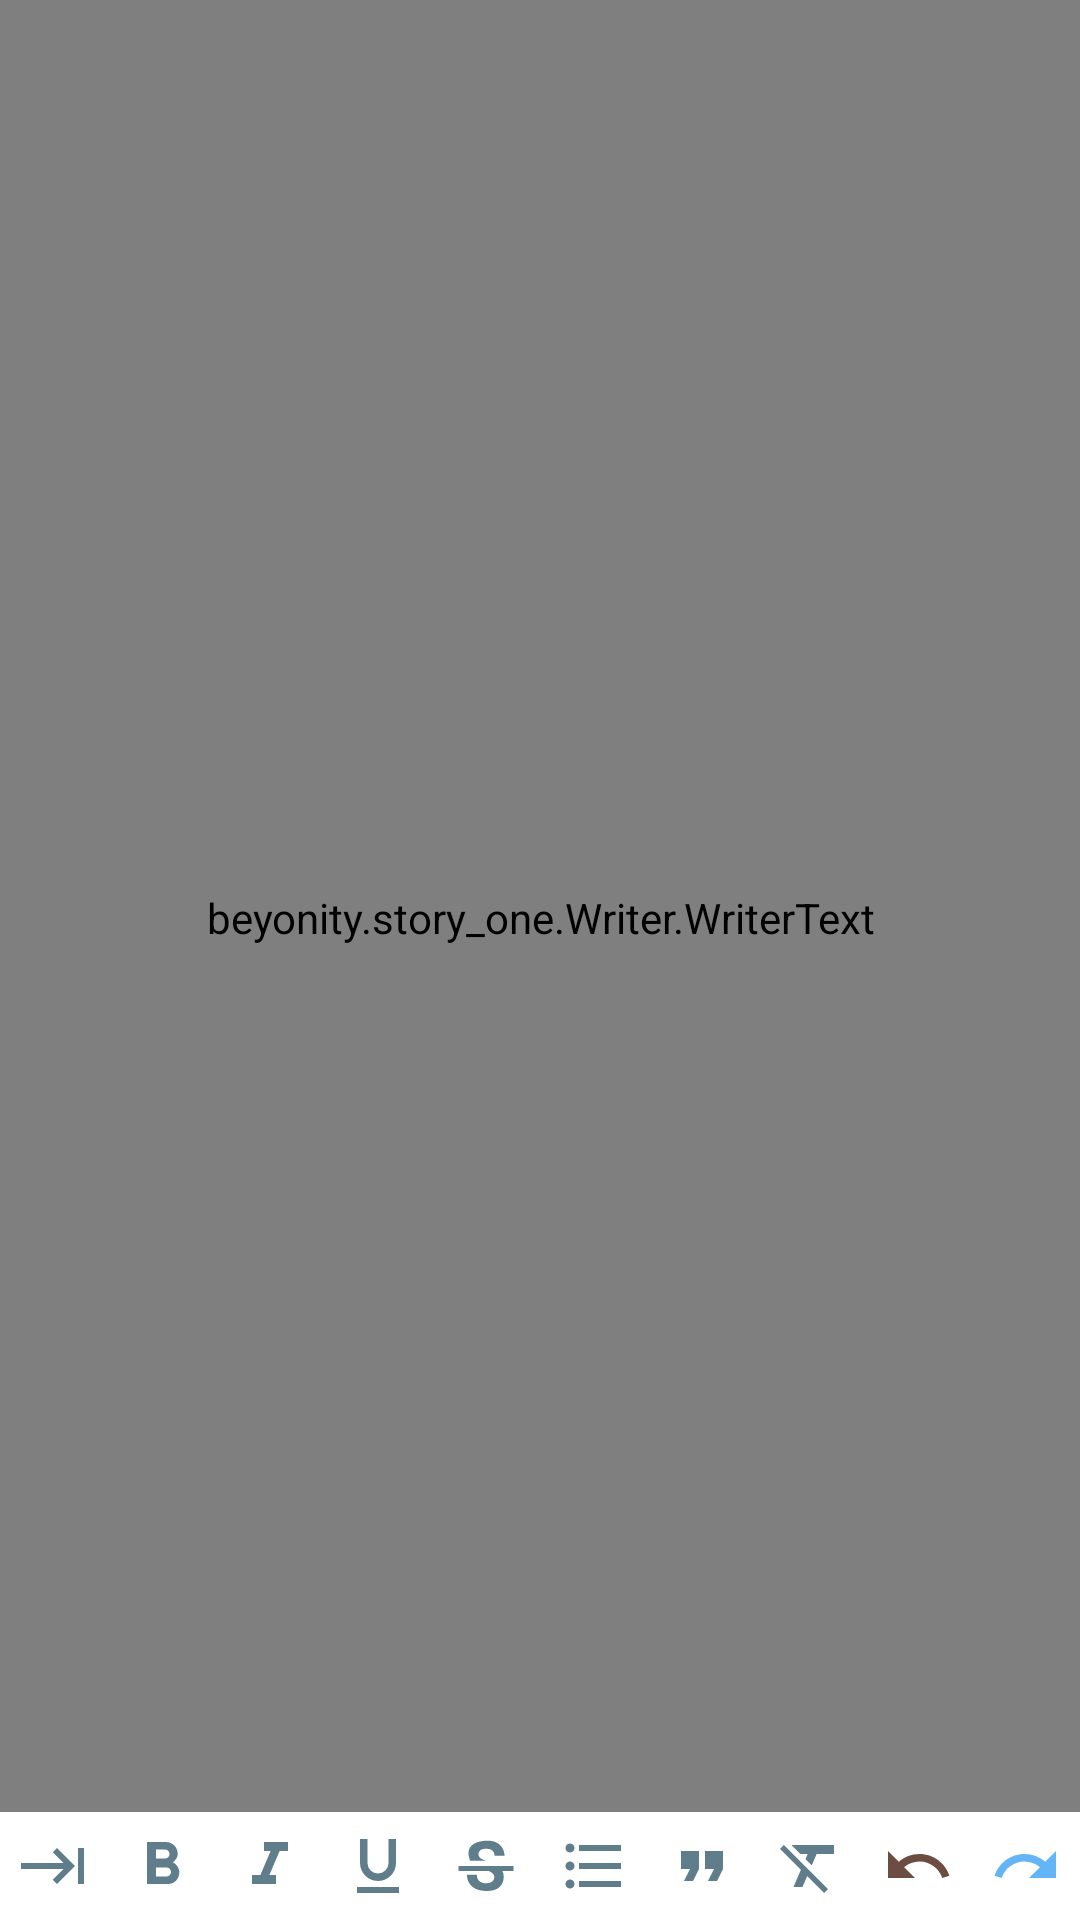

Where icons sit on this 1080 x 1920 app screen, as (x1=x1, y1=y1, x2=x2, y2=y2):
format clear: (x1=780, y1=1845, x2=834, y2=1893)
format italic: (x1=252, y1=1842, x2=288, y2=1884)
format list bulleted: (x1=565, y1=1843, x2=621, y2=1889)
format quote close: (x1=681, y1=1851, x2=723, y2=1881)
format strikethrough variant: (x1=458, y1=1840, x2=514, y2=1891)
format underline: (x1=357, y1=1839, x2=399, y2=1893)
keyboard tab: (x1=21, y1=1848, x2=84, y2=1884)
redo: (x1=994, y1=1851, x2=1056, y2=1878)
undo: (x1=888, y1=1851, x2=950, y2=1878)
